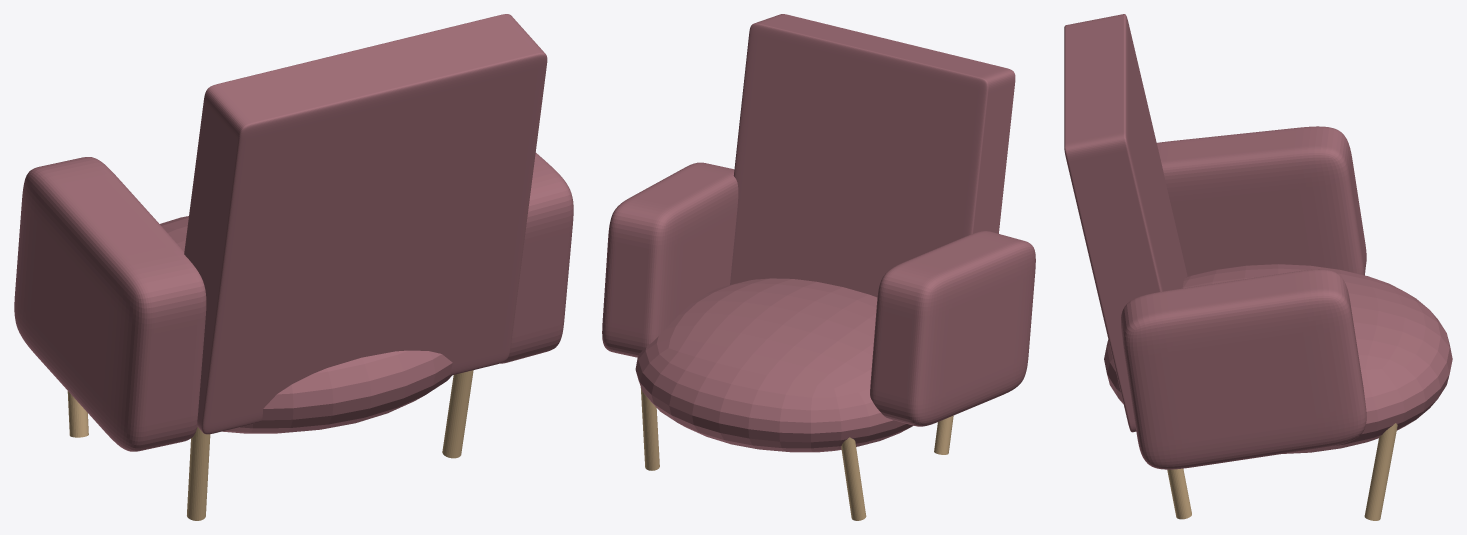
3 renders of one model, left to right at view 1: azimuth 30°, elevation 25°; view 2: azimuth 150°, elevation 25°; view 3: azimuth 270°, elevation 25°, orthographic. The views are drawn at different scales.
Parts seen in each view (by area): view 1: Backrest, Left_Armrest, Seat_Cushion, Right_Armrest, Back_Left_Leg, Back_Right_Leg, Front_Left_Leg; view 2: Backrest, Seat_Cushion, Left_Armrest, Right_Armrest, Front_Left_Leg, Front_Right_Leg, Back_Left_Leg; view 3: Right_Armrest, Backrest, Left_Armrest, Seat_Cushion, Front_Right_Leg, Back_Right_Leg.
Part boxes in pixels (bbox=[...]): Backrest: bbox=[184, 14, 547, 434]; Left_Armrest: bbox=[14, 157, 206, 451]; Seat_Cushion: bbox=[160, 216, 452, 433]; Right_Armrest: bbox=[500, 152, 573, 363]; Back_Left_Leg: bbox=[187, 427, 210, 520]; Back_Right_Leg: bbox=[442, 370, 473, 458]; Front_Left_Leg: bbox=[67, 391, 88, 437]; Backrest: bbox=[730, 14, 1015, 297]; Seat_Cushion: bbox=[635, 278, 913, 452]; Left_Armrest: bbox=[870, 231, 1035, 426]; Right_Armrest: bbox=[602, 162, 738, 357]; Front_Left_Leg: bbox=[841, 437, 866, 520]; Front_Right_Leg: bbox=[640, 387, 659, 470]; Back_Left_Leg: bbox=[934, 415, 953, 454]; Right_Armrest: bbox=[1121, 269, 1366, 469]; Backrest: bbox=[1064, 14, 1187, 432]; Left_Armrest: bbox=[1157, 126, 1366, 276]; Seat_Cushion: bbox=[1104, 264, 1452, 453]; Front_Right_Leg: bbox=[1364, 423, 1397, 520]; Back_Right_Leg: bbox=[1167, 468, 1191, 519].
Size of the model in its own units: 1.86 by 1.86 by 1.68.
